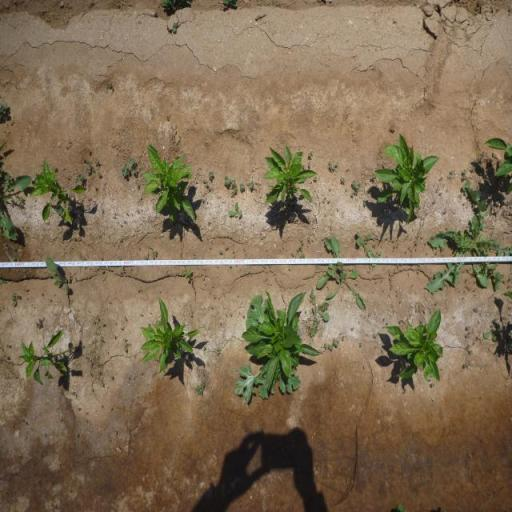plant: (373, 132, 440, 225), (242, 293, 303, 381), (383, 306, 446, 384), (142, 140, 199, 226), (140, 296, 201, 374), (31, 157, 89, 229), (261, 139, 315, 209), (18, 328, 80, 388), (482, 133, 512, 179)
weed: (426, 180, 512, 294), (323, 232, 367, 308), (0, 140, 31, 241), (314, 231, 356, 289), (230, 362, 266, 406), (308, 288, 330, 340), (45, 256, 72, 292), (355, 231, 377, 268), (482, 326, 503, 344), (159, 0, 193, 10), (227, 201, 243, 219), (323, 338, 339, 352), (350, 180, 361, 200), (194, 378, 206, 396), (10, 292, 22, 308), (230, 176, 238, 199), (0, 99, 8, 122), (222, 0, 239, 10), (122, 336, 130, 355), (327, 160, 339, 172), (202, 179, 212, 192), (36, 316, 46, 329), (85, 160, 94, 174), (184, 268, 193, 282), (460, 168, 468, 183), (120, 163, 129, 176), (76, 172, 86, 182), (105, 82, 115, 92), (128, 156, 137, 167), (22, 268, 29, 280), (298, 238, 304, 252), (172, 20, 177, 36), (208, 170, 215, 181), (224, 175, 230, 187), (470, 165, 478, 174), (238, 182, 245, 192), (130, 167, 138, 175), (361, 199, 369, 207), (248, 180, 254, 190), (143, 252, 150, 260), (70, 390, 78, 397), (308, 150, 314, 159), (339, 176, 346, 183), (152, 250, 158, 258), (376, 250, 382, 258), (215, 348, 221, 356), (299, 252, 306, 258), (372, 242, 378, 248), (372, 333, 378, 339), (94, 157, 99, 164), (307, 236, 311, 244), (96, 171, 101, 177), (11, 245, 16, 250), (218, 250, 223, 255), (93, 185, 98, 190), (2, 242, 6, 248), (16, 256, 20, 262), (350, 326, 354, 332), (359, 342, 362, 350), (225, 245, 229, 250), (291, 252, 295, 257), (203, 346, 207, 351), (11, 256, 15, 260), (308, 161, 310, 169), (342, 334, 344, 342), (302, 164, 304, 170), (314, 176, 316, 182), (88, 148, 90, 153)
